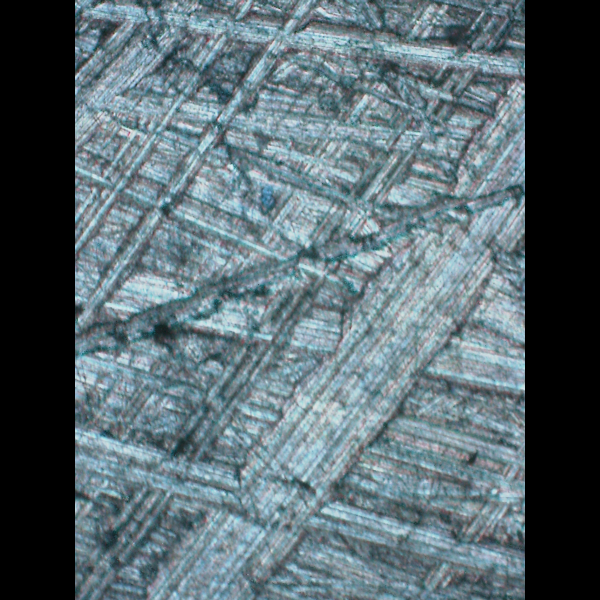d: (103, 152, 489, 563)
